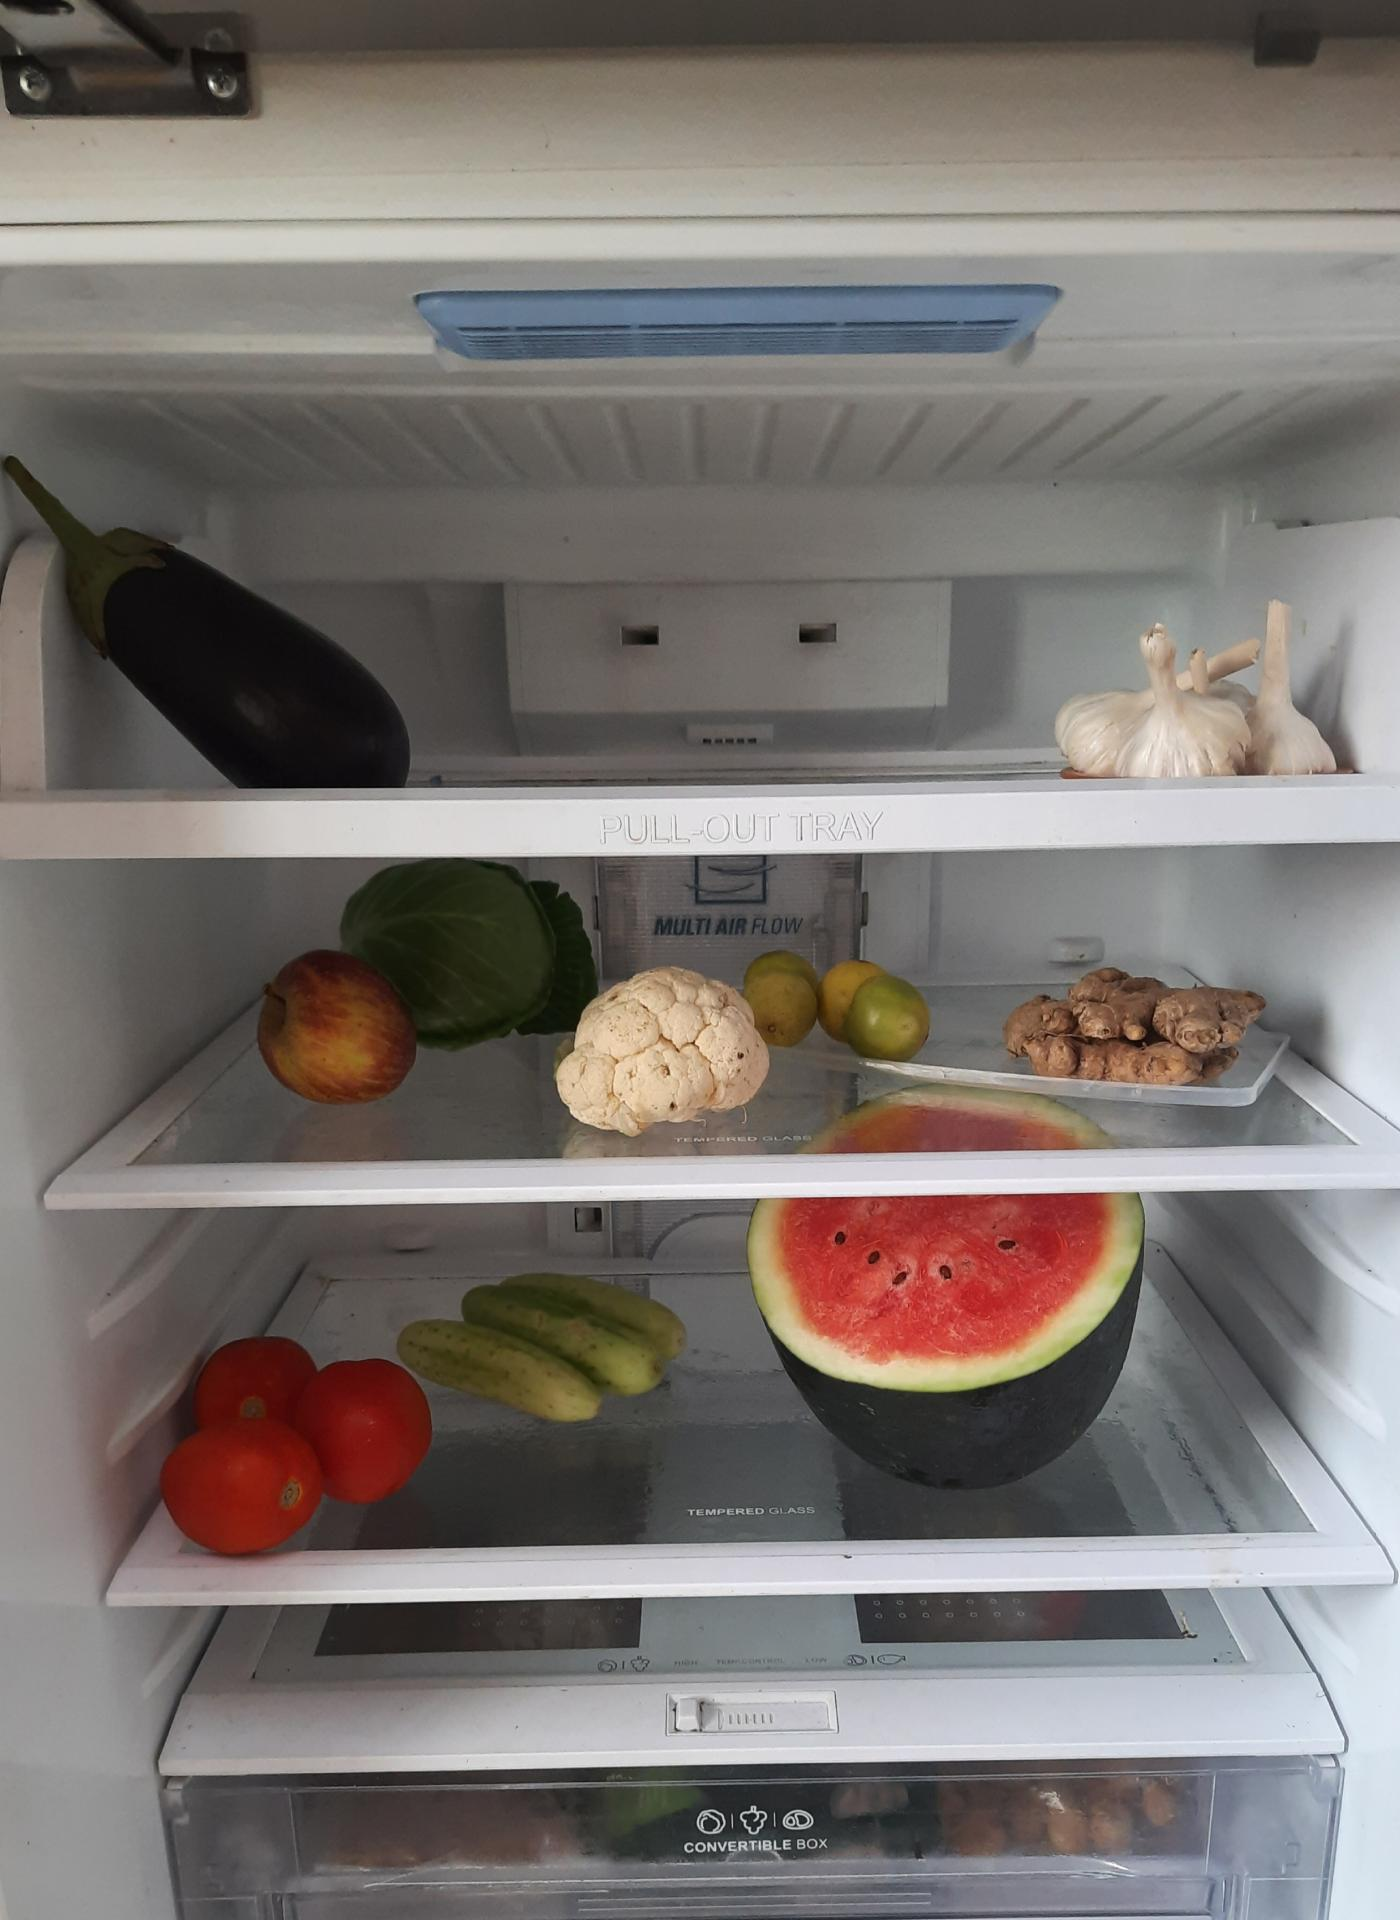apple: (256, 941, 416, 1108)
brinjal: (1, 455, 431, 790)
cabbage: (329, 863, 590, 1045)
cauliflower: (555, 963, 769, 1131)
cucumber: (400, 1261, 696, 1419)
garlic: (1051, 605, 1364, 789)
ginger: (1000, 959, 1273, 1084)
lemon: (744, 942, 932, 1055)
tomato: (164, 1333, 437, 1556)
watermelon: (737, 1084, 1136, 1489)
